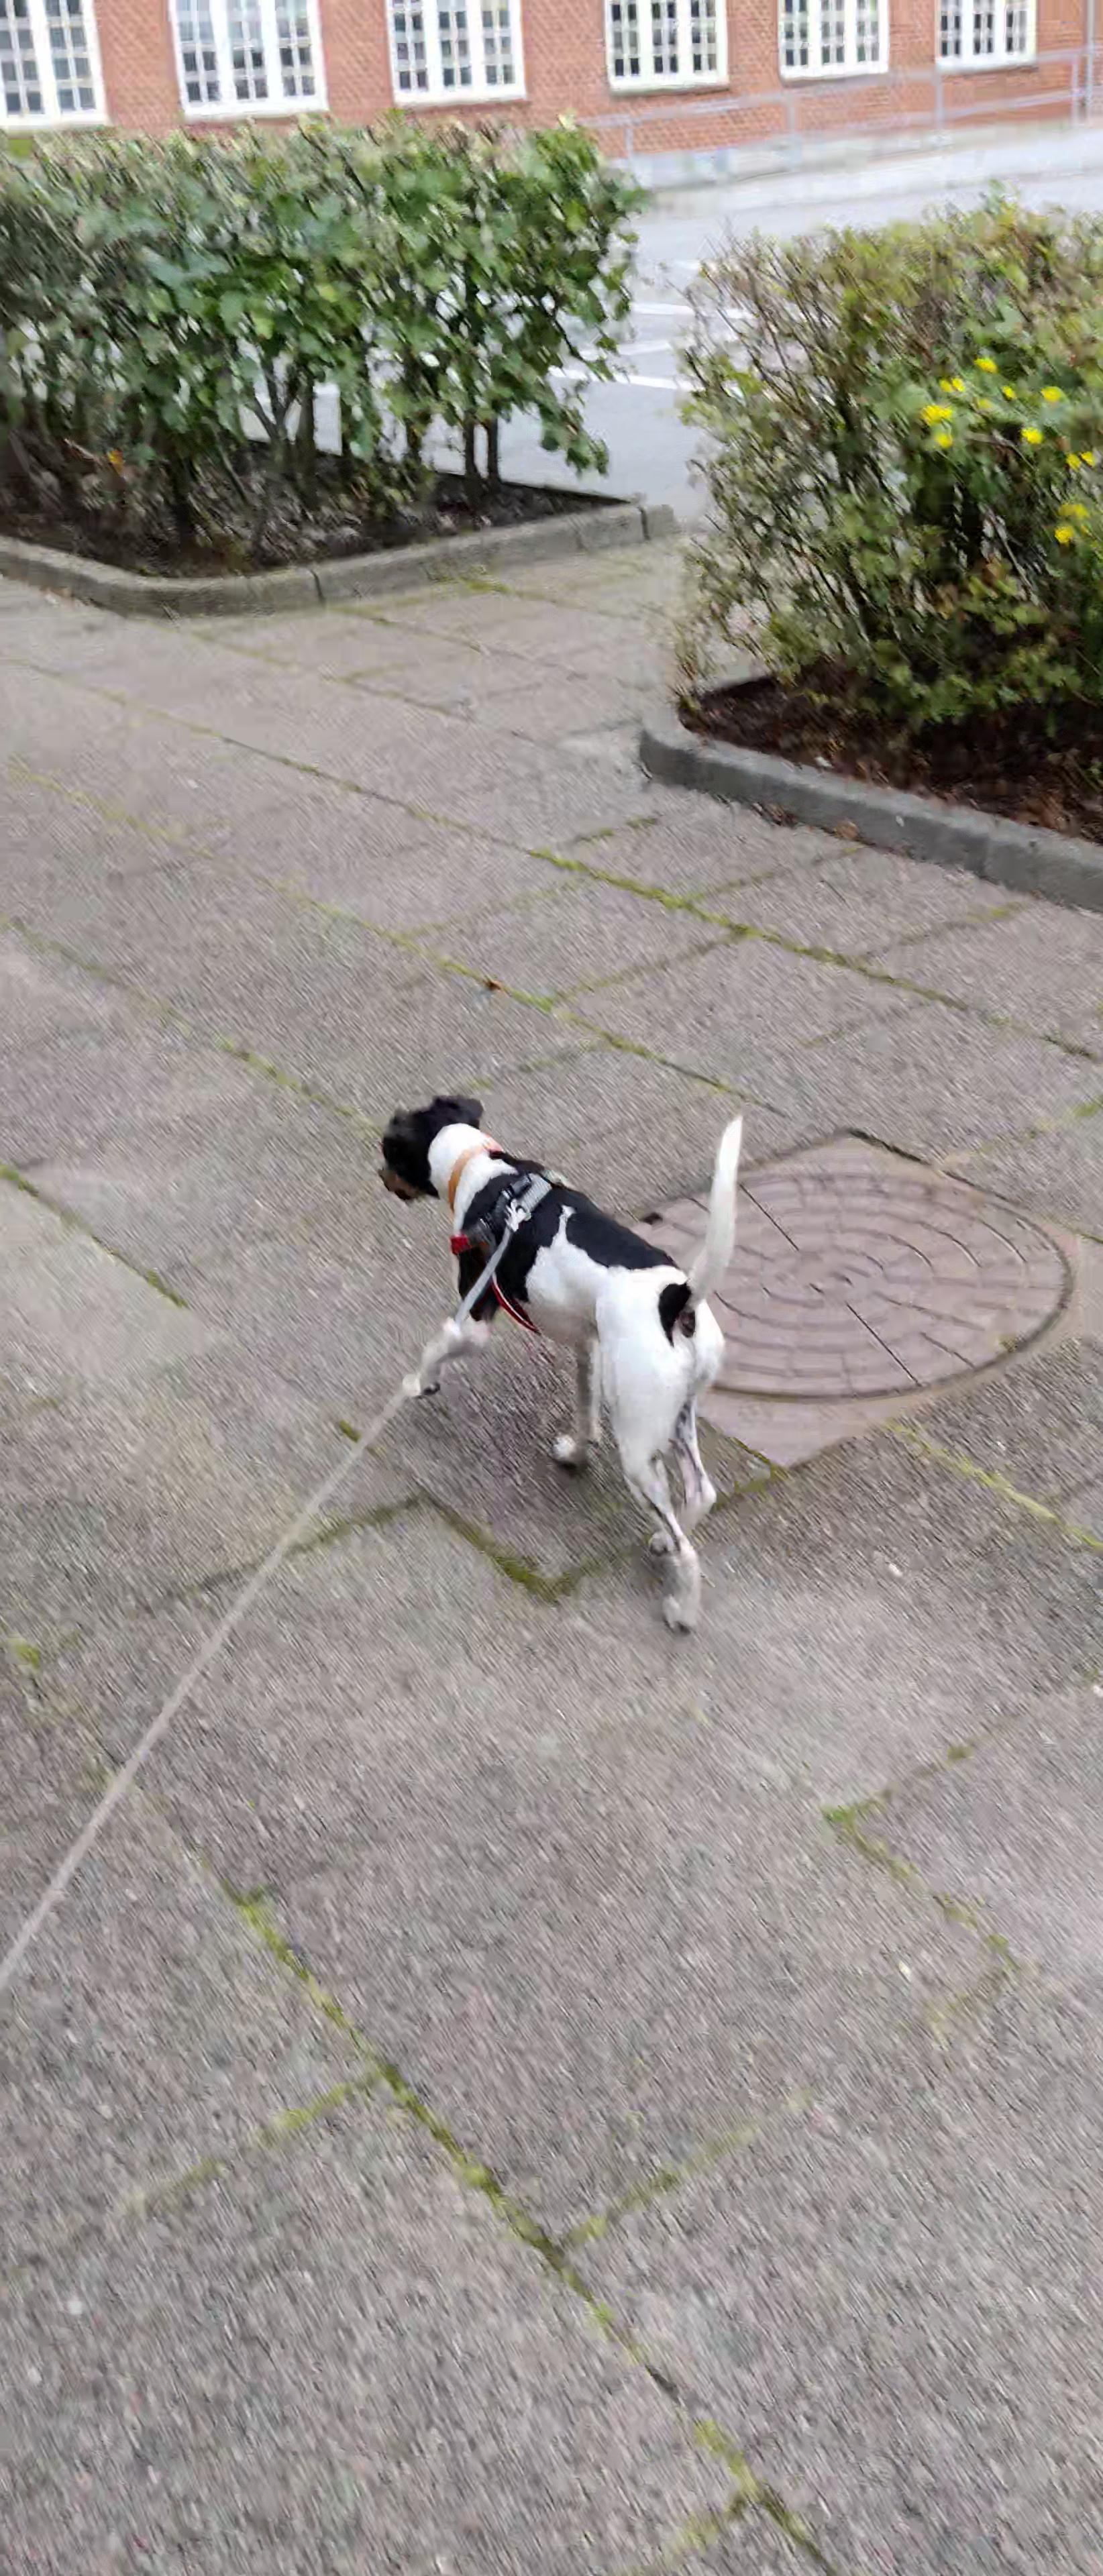Dog: (372, 1088, 751, 1640)
